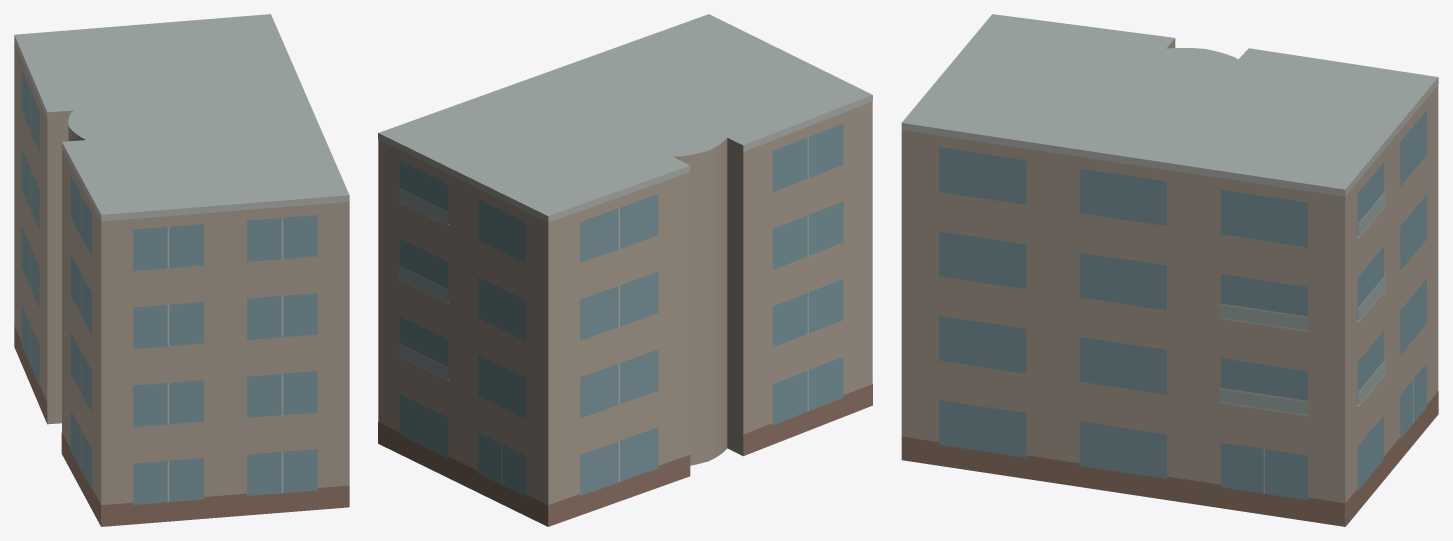
File: survey-upis-32882604.glb
3 views of the same model, side by side, from view 1: azimuth 30°, elevation 25°; view 2: azimuth 150°, elevation 25°; view 3: azimuth 270°, elevation 25° (orthographic). The views are drawn at different scales.
Parts seen in each view (by area): view 1: survey-upis-32882604.tmp; view 2: survey-upis-32882604.tmp; view 3: survey-upis-32882604.tmp.
Boxes of the visible parts, box(x1,y1,x2,y2) form: survey-upis-32882604.tmp: box(14, 14, 349, 526); survey-upis-32882604.tmp: box(378, 14, 872, 526); survey-upis-32882604.tmp: box(901, 14, 1438, 526).
Bounding box in the file's own units: 12.97 × 11.6 × 16.75.
